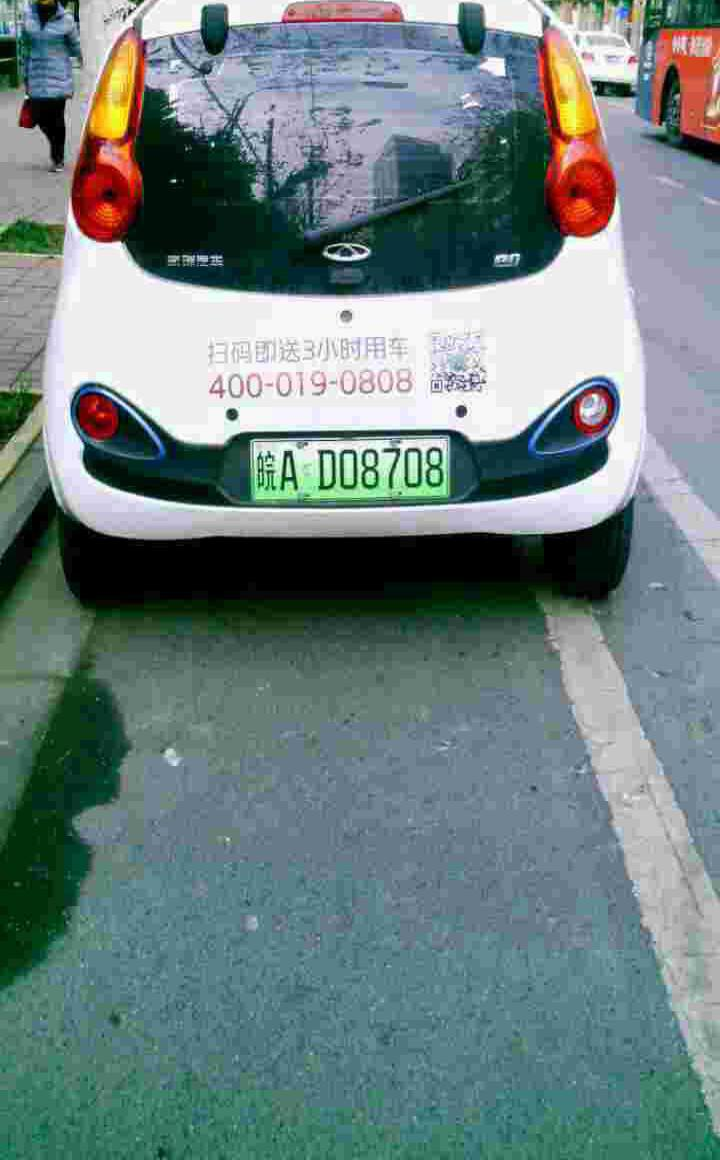car_id: (250, 431, 448, 502)
